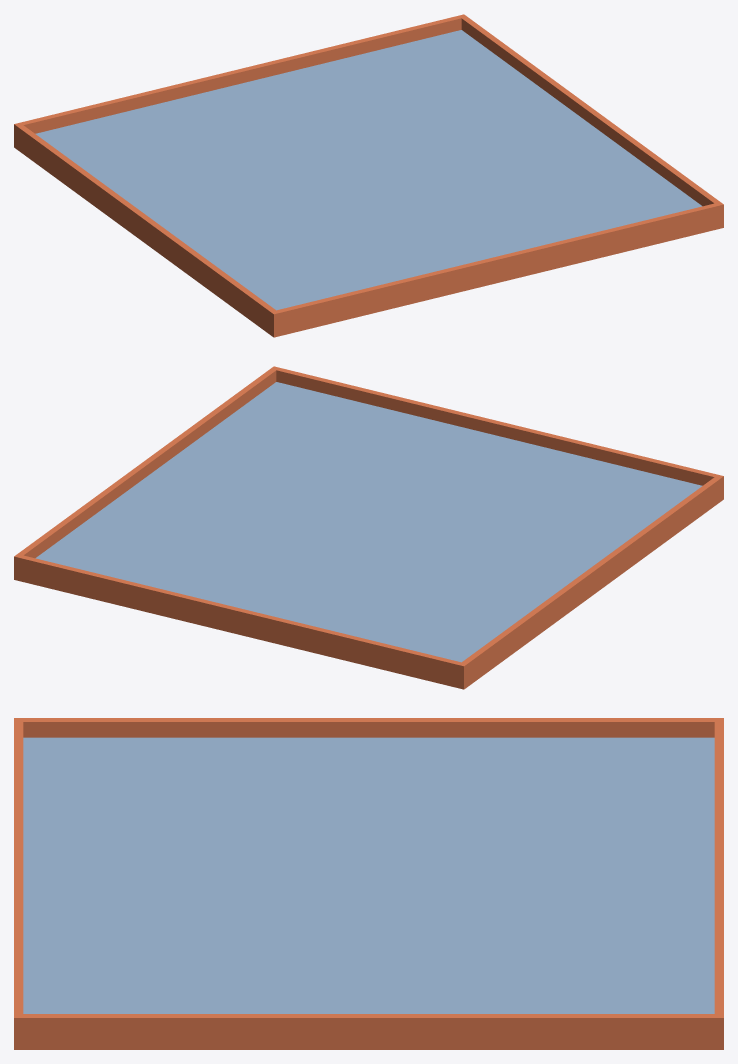
Rendered from board_transform.fbx.
3 views of the same model, one above another, from view 1: azimuth 30°, elevation 25°; view 2: azimuth 150°, elevation 25°; view 3: azimuth 270°, elevation 25° (orthographic). The views are drawn at different scales.
Visible parts, largest first — view 1: Cube; view 2: Cube; view 3: Cube.
Part boxes in pixels (box(x1,y1,x2,y2)): Cube: box(14, 14, 723, 337); Cube: box(14, 366, 723, 689); Cube: box(14, 718, 723, 1049).
Size of the model in its own units: 800 by 39.58 by 800.
